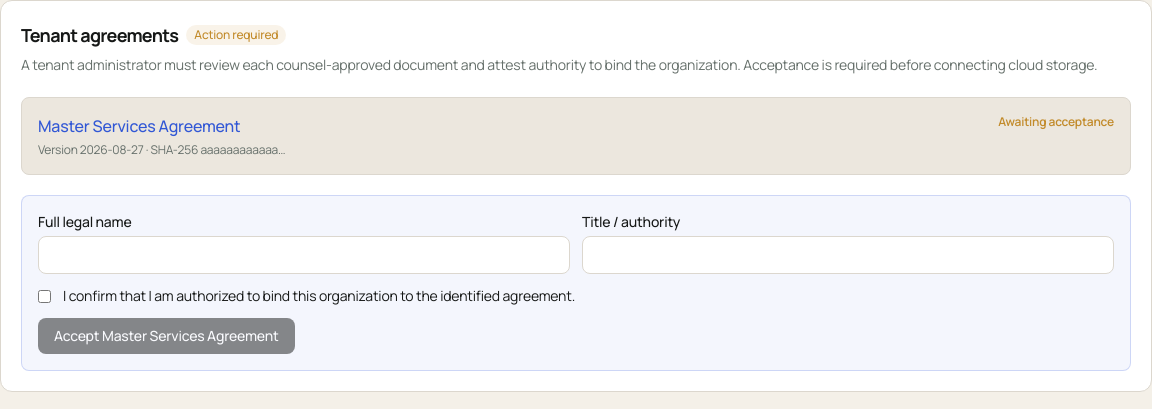
Test case: tenant compliance controls › binds acceptance to the exact agreement the admin reviewed
The image size is (1152, 409).
Type "Avery Counsel" into the field labelled "Full legal name" at (304, 255), box x1=38 y1=236 x2=570 y2=274
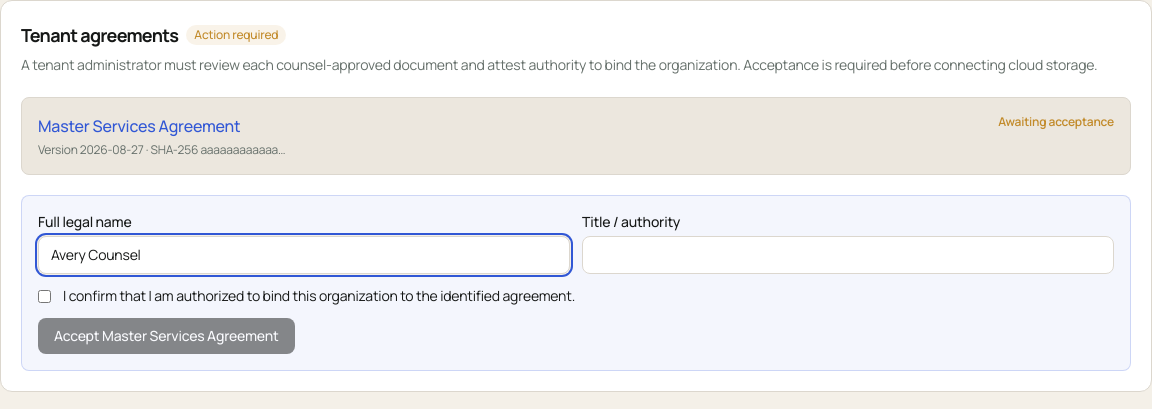
Type "Managing Partner" into the field labelled "Title / authority" at (848, 255), box x1=582 y1=236 x2=1114 y2=274
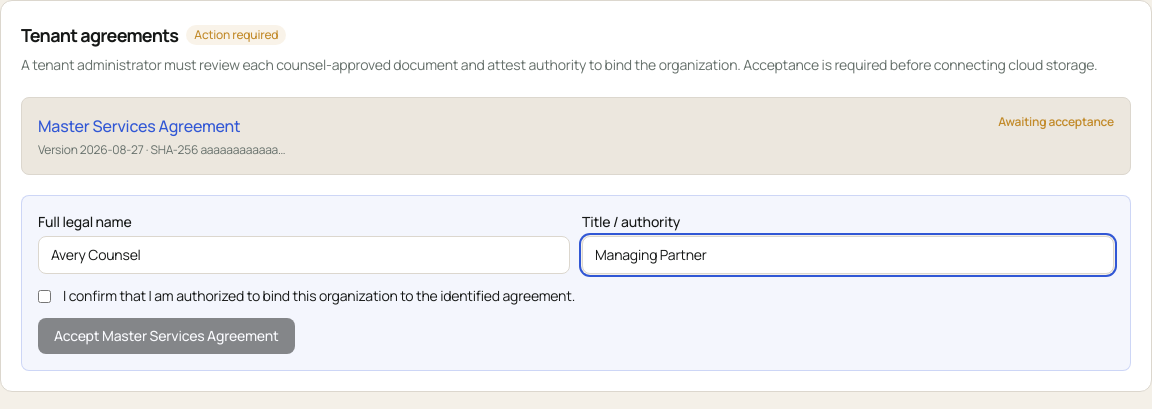
Click the checkbox at (44, 296), box x1=38 y1=290 x2=51 y2=303
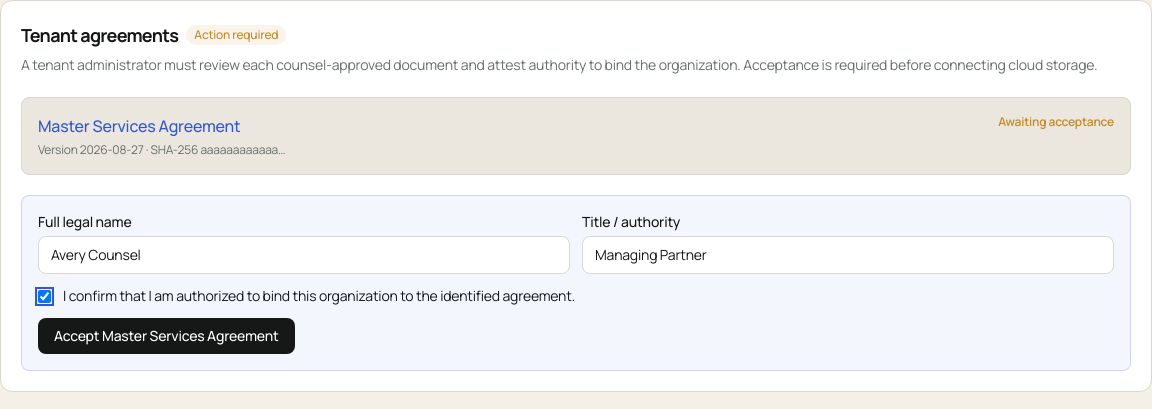
Click the button "Accept Master Services Agreement" at (166, 336), box x1=38 y1=318 x2=294 y2=354
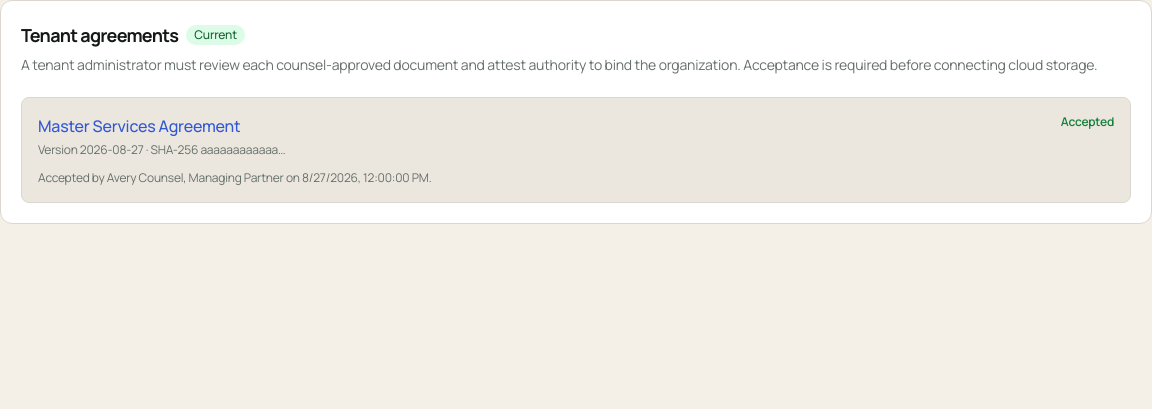
expect the text "Accepted" is shown: met, box x1=1061 y1=114 x2=1114 y2=130
